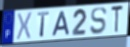2: (72, 8, 88, 37)
A: (51, 10, 70, 38)
S: (89, 6, 108, 36)
T: (110, 5, 124, 35), (37, 11, 51, 38)
X: (16, 11, 34, 41)
